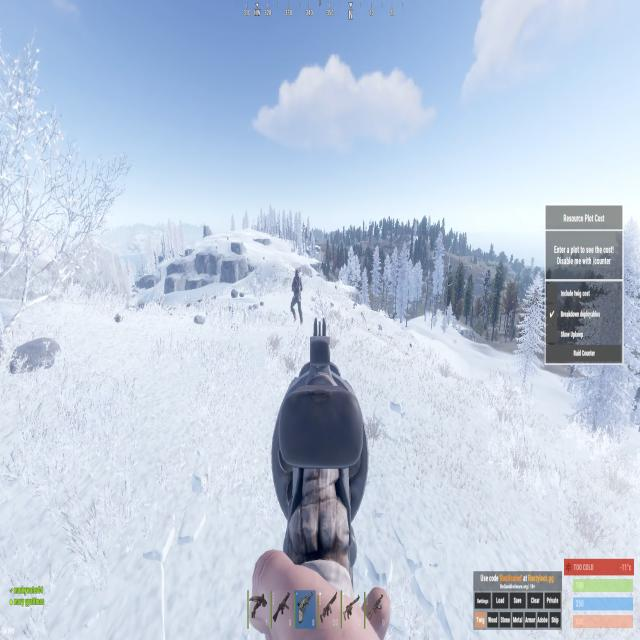Player: (289, 268, 305, 329)
